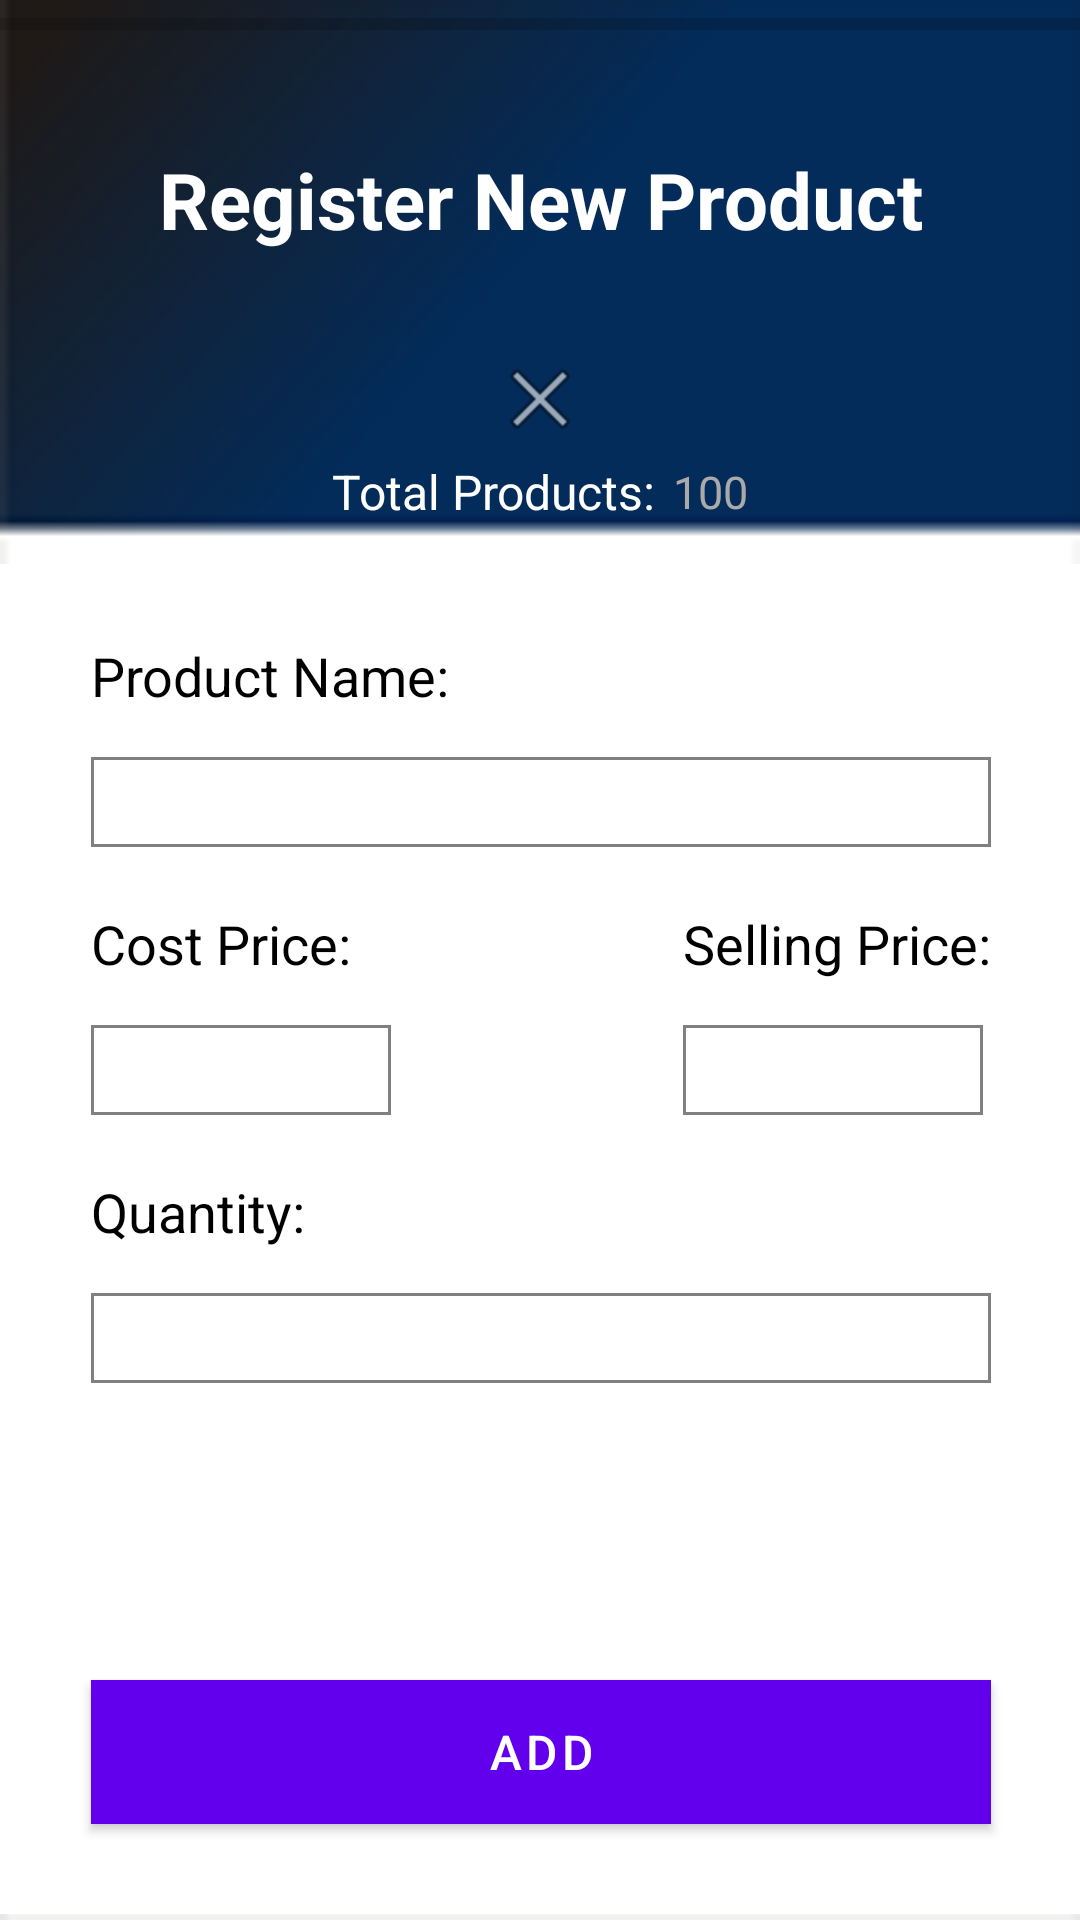

Screen size 1080*1920. Icon name, then its box in pixels as (x1, y1, x2, y2):
close clear cancel: (511, 370, 569, 428)
